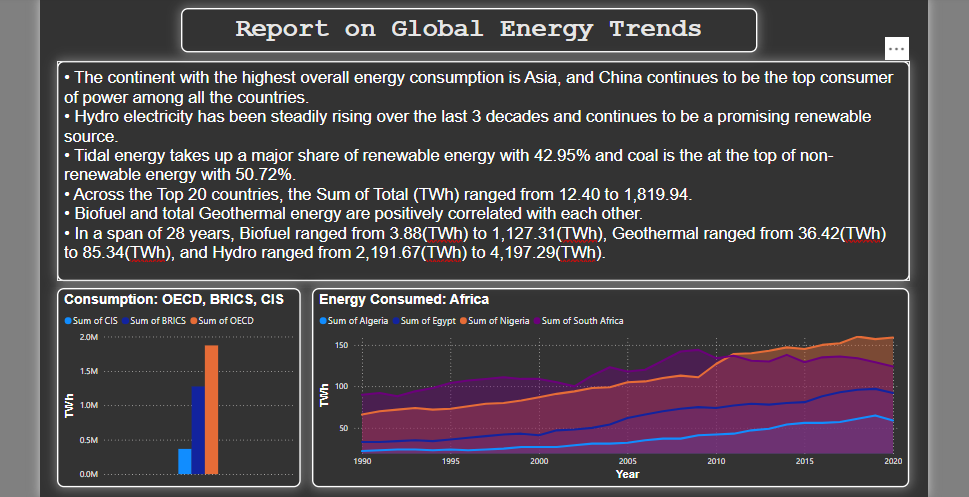

Layout of this report page (visuals, bound fields, positions):
{"tool":"powerbi","page":{"name":"Report","canvas":[1280,720],"ordinal":3},"visuals":[{"type":"textbox","box":[202.7,15.6,829.7,64.1],"z":0},{"type":"textbox","box":[24.5,92.2,1228.3,316.8],"z":1000},{"type":"clusteredColumnChart","title":"Consumption: OECD, BRICS, CIS","fields":{"Y":["Sum(Continent_Consumption_TWH.CIS)","Sum(Continent_Consumption_TWH.BRICS)","Sum(Continent_Consumption_TWH.OECD)"]},"box":[24.5,419,351.4,286.6],"z":2000},{"type":"areaChart","title":"Energy Consumed: Africa","fields":{"Y":["Sum(Country_Consumption_TWH.Algeria)","Sum(Country_Consumption_TWH.Egypt)","Sum(Country_Consumption_TWH.Nigeria)","Sum(Country_Consumption_TWH.South Africa)"],"Category":["Country_Consumption_TWH.Year"]},"box":[391.7,419,859.7,286.6],"z":3000}]}

Visuals, with their boxes on the page's 1280x720 design canvas (x1, y1, x2, y2). These are canvas units, not pixel positions in the 969x497 screenshot, which may show the page scaled, cropped or inside an application window:
textbox: crop(203, 16, 1032, 80)
textbox: crop(24, 92, 1253, 409)
"Consumption: OECD, BRICS, CIS" clusteredColumnChart: crop(24, 419, 376, 706)
"Energy Consumed: Africa" areaChart: crop(392, 419, 1251, 706)
